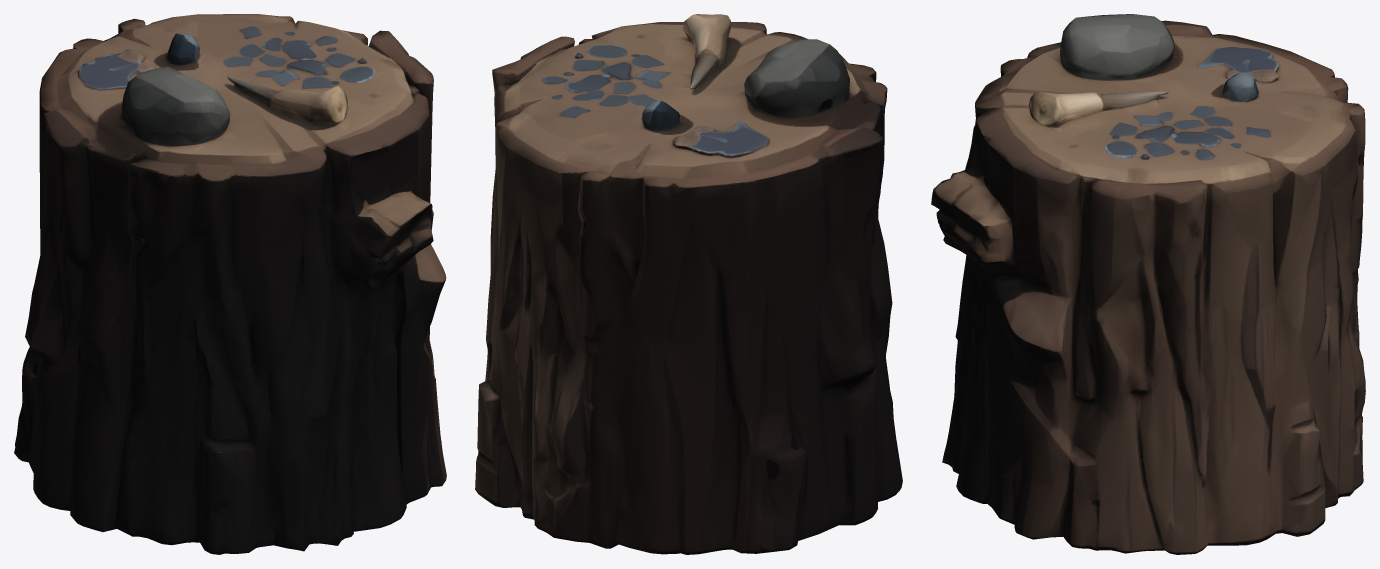
Rendered from knapping_station.glb.
The picture shows the model from 3 angles, left to right: view 1: azimuth 30°, elevation 25°; view 2: azimuth 150°, elevation 25°; view 3: azimuth 270°, elevation 25°; orthographic projection. The views are drawn at different scales.
Parts seen in each view (by area): view 1: world; view 2: world; view 3: world.
Part boxes in pixels (box(x1,y1,x2,y2)): world: box(14, 14, 446, 554); world: box(475, 14, 902, 554); world: box(931, 14, 1365, 554).
Size of the model in its own units: 0.9361 by 0.9965 by 0.958.
1 material, 1 textured.
